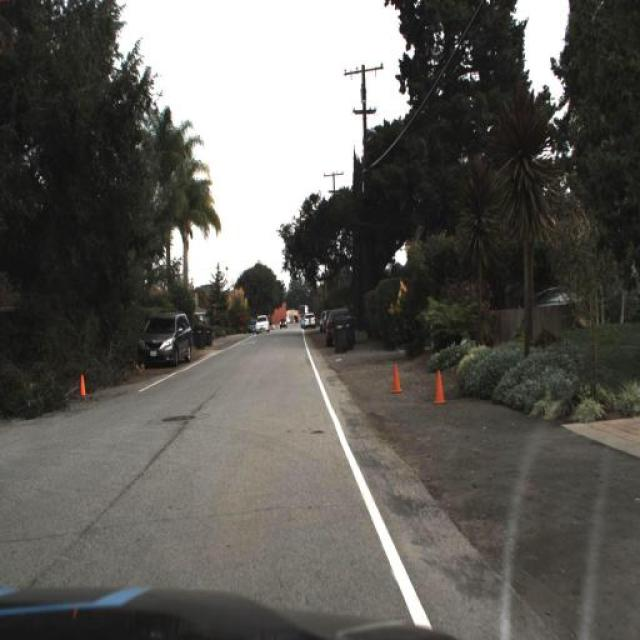car: (137, 308, 192, 372), (324, 302, 354, 349), (250, 312, 272, 338)
